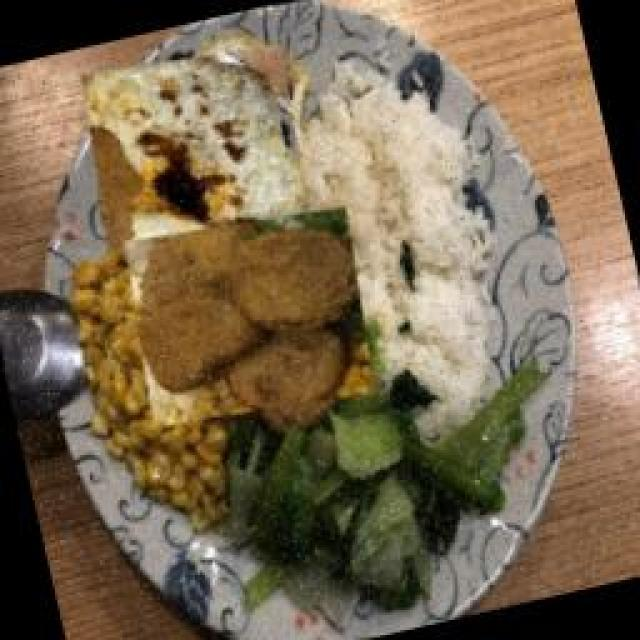chicken_nuggets: (118, 185, 383, 450)
fried_eggs: (73, 23, 318, 268)
rice: (295, 63, 513, 366)
